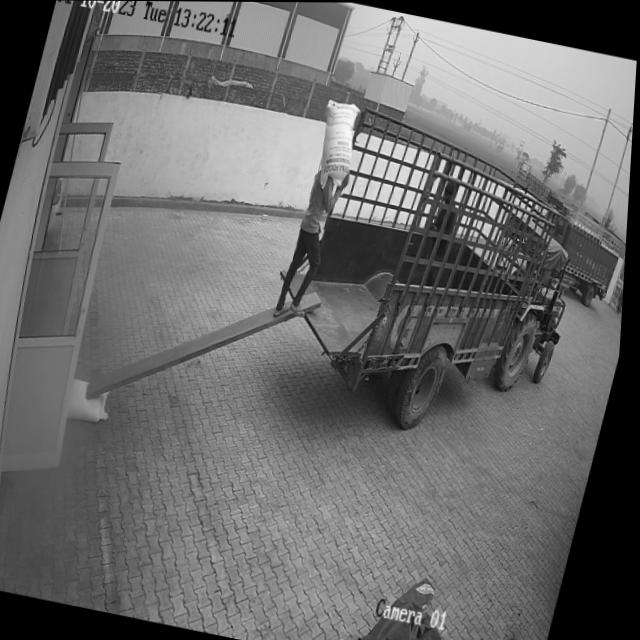sack: (309, 97, 367, 192), (68, 377, 120, 426)
